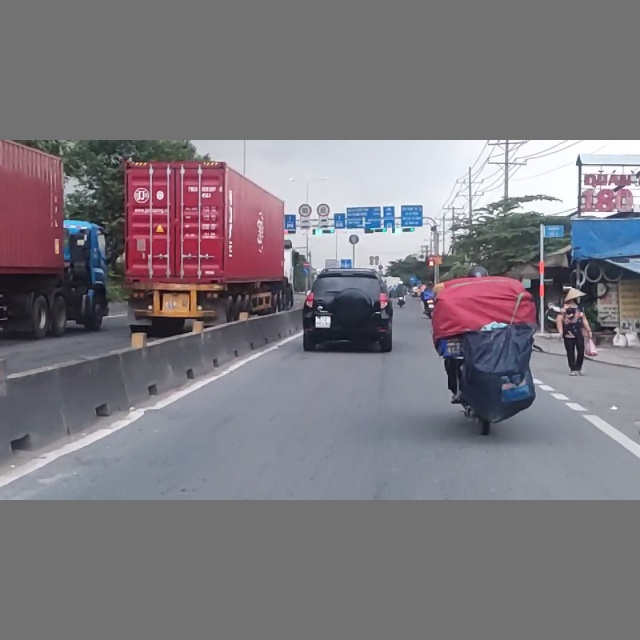P.102: (303, 261, 309, 267)
P.127*60: (316, 203, 331, 218)
P.127*80: (299, 204, 312, 217)
R.302a: (303, 268, 309, 274)
